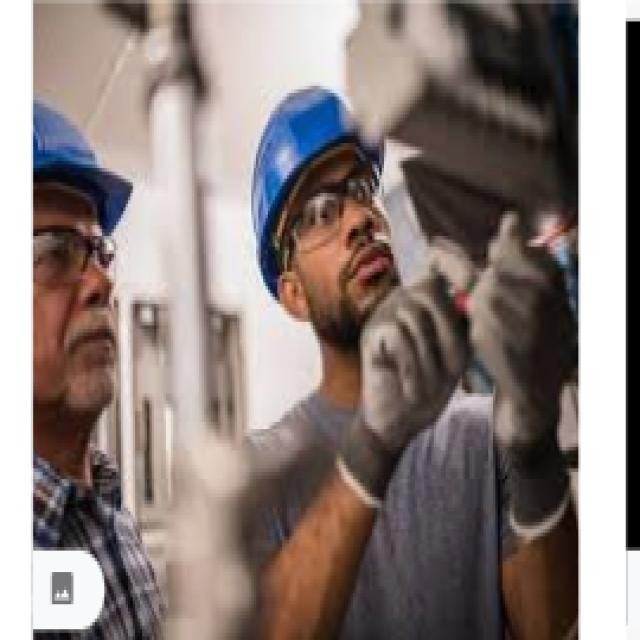glasses: (33, 216, 118, 296), (296, 178, 394, 232)
